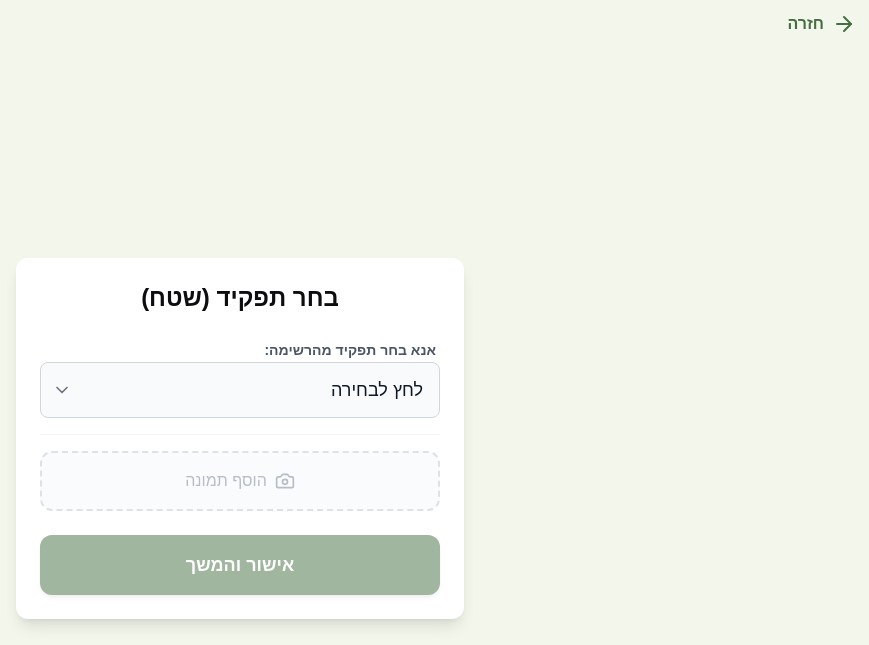
Test: OutsideRolesPage (OutStoreDuty) › Enables submit button when a standard role is selected
The width and height of the screenshot is (869, 645).
Note: Select "Train Agent" (סוכן רכבת)
Select "סוכן רכבת" in the dropdown at (240, 390), box [40, 362, 440, 418]
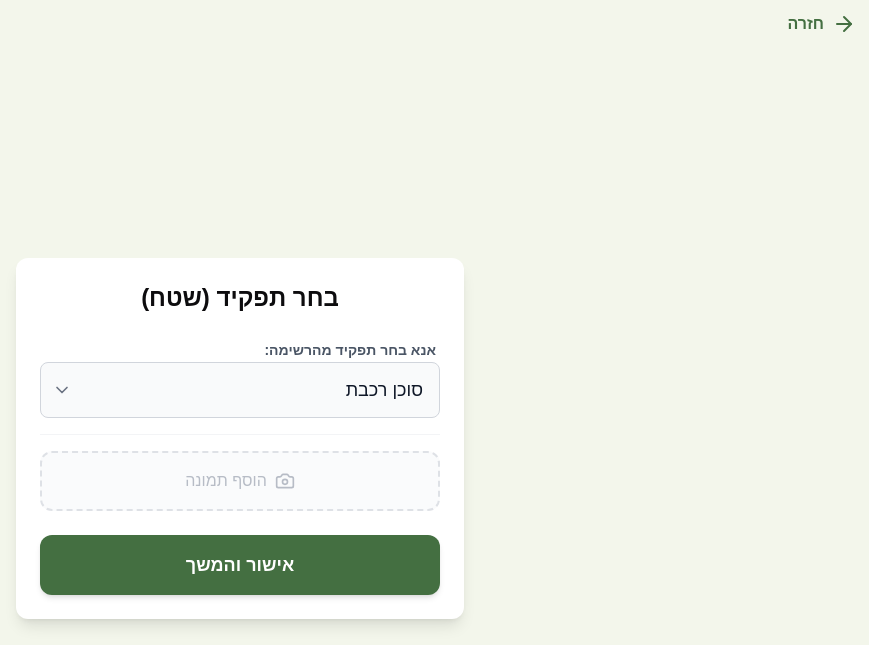
expect the button "אישור והמשך" is enabled: met, box [40, 534, 440, 594]
